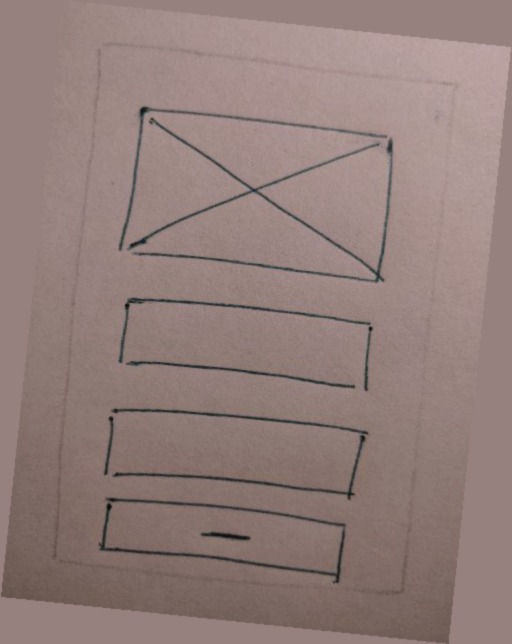button: (90, 490, 352, 587)
image: (112, 95, 408, 293)
text_input: (106, 288, 384, 405), (92, 397, 373, 511)
